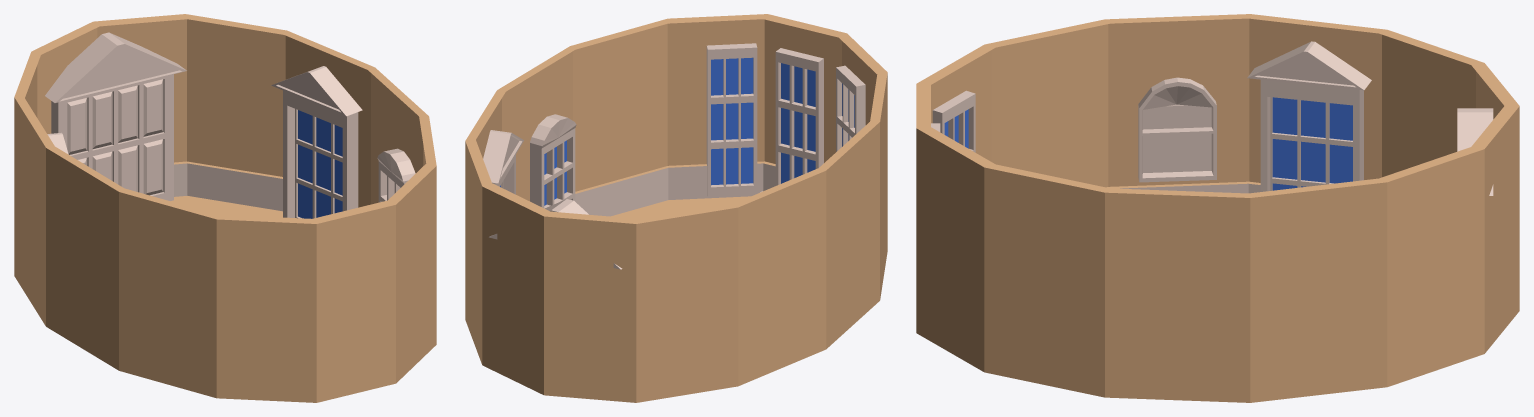
File: Oval Modelo Color.fbx
3 views of the same model, side by side, from view 1: azimuth 30°, elevation 25°; view 2: azimuth 150°, elevation 25°; view 3: azimuth 270°, elevation 25° (orthographic). The views are drawn at different scales.
Parts seen in each view (by area): view 1: Cylinder, Cube.007, Cube.005, Cube.008, Cube.004; view 2: Cylinder, Cube.002, Cube, Cube.004, Cube.001, Cube.005, Cube.008; view 3: Cylinder, Cube.006, Cube.003, Cube.001, Cube.008.
Boxes of the visible parts, x1,y1,x2,y2 form: Cylinder: (14, 14, 436, 402); Cube.007: (51, 74, 173, 200); Cube.005: (271, 66, 362, 218); Cube.008: (45, 32, 186, 102); Cube.004: (377, 148, 415, 202); Cylinder: (465, 14, 887, 402); Cube.002: (706, 43, 757, 197); Cube: (775, 48, 823, 185); Cube.004: (530, 114, 576, 208); Cube.001: (836, 65, 865, 151); Cube.005: (483, 130, 523, 194); Cube.008: (489, 199, 622, 269); Cylinder: (916, 14, 1519, 402); Cube.006: (1247, 41, 1371, 191); Cube.003: (1138, 77, 1216, 182); Cube.001: (932, 90, 975, 152); Cube.008: (1457, 108, 1493, 195).
Size of the model in its own units: 4684 by 2436 by 6491.
